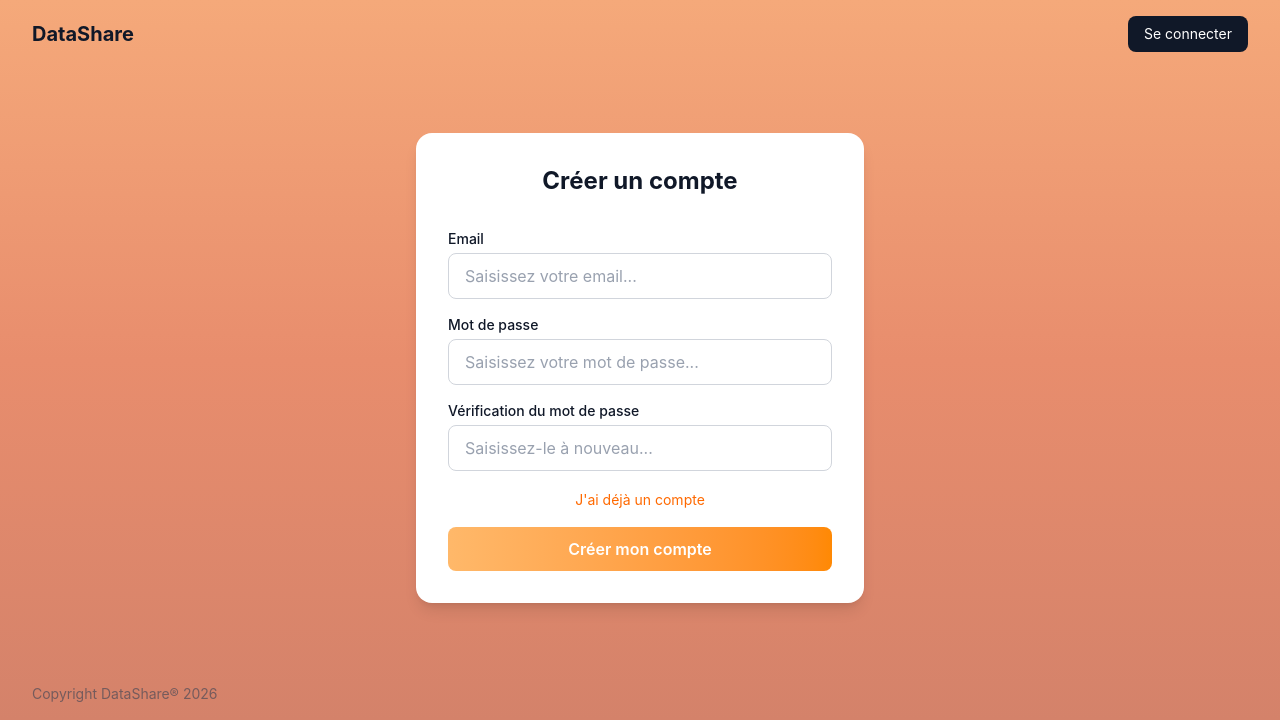
Test: Register Component (Integration) › affiche des erreurs Zod si les mots de passe ne correspondent pas
Type "test@test.com" into the field with placeholder "Saisissez votre email..." at (640, 276), box [448, 253, 832, 299]
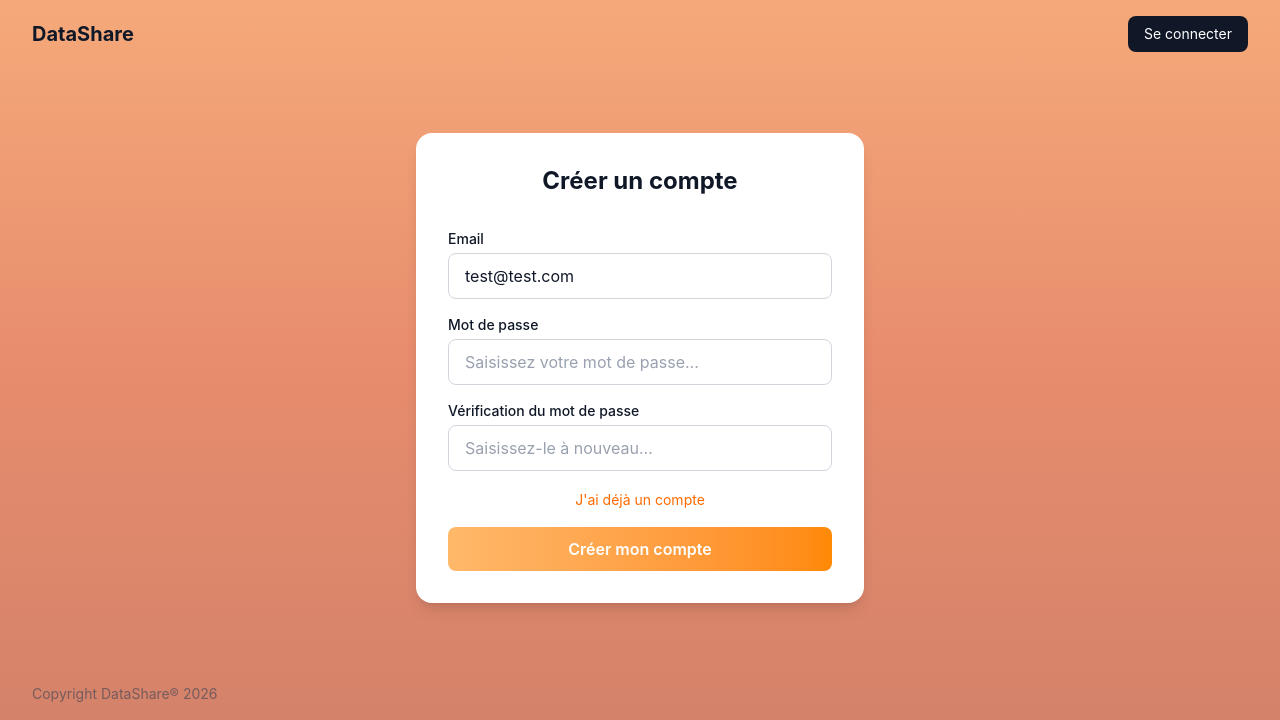
Type "password123" into the password field with placeholder "Saisissez votre mot de passe..." at (640, 362), box [448, 339, 832, 385]
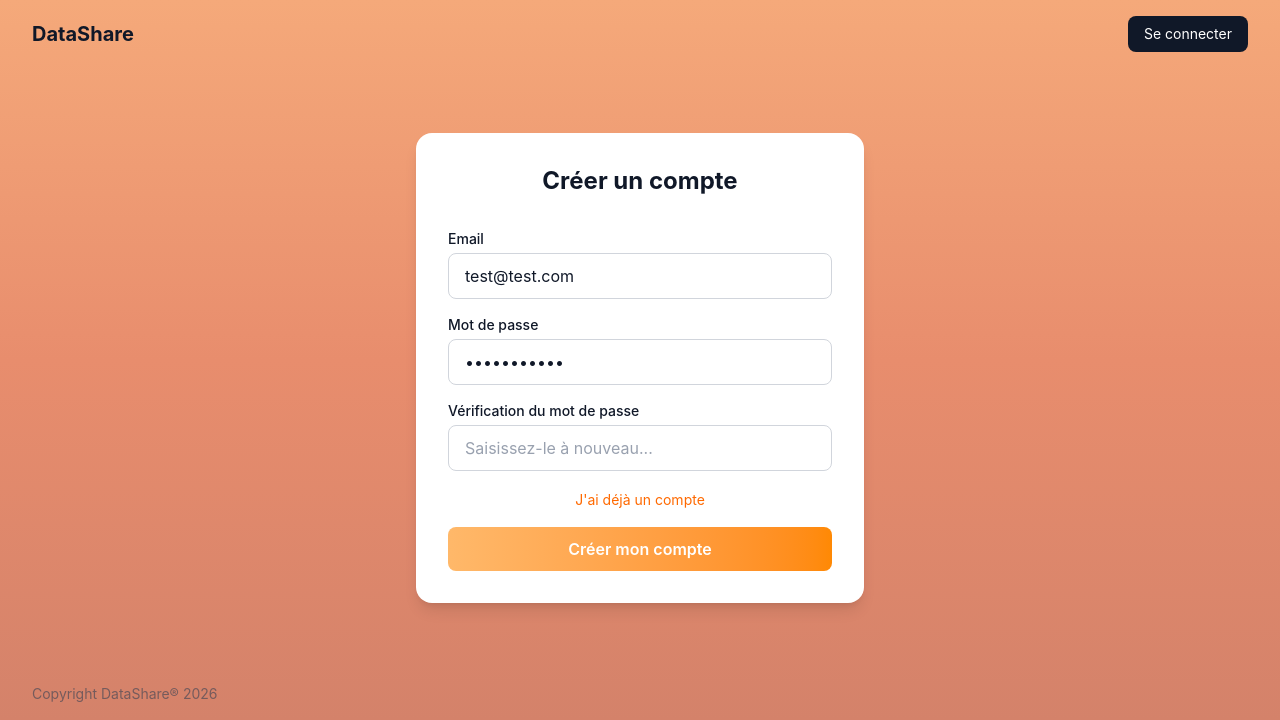
Type "diff-password" into the password field with placeholder "Saisissez-le à nouveau..." at (640, 448), box [448, 425, 832, 471]
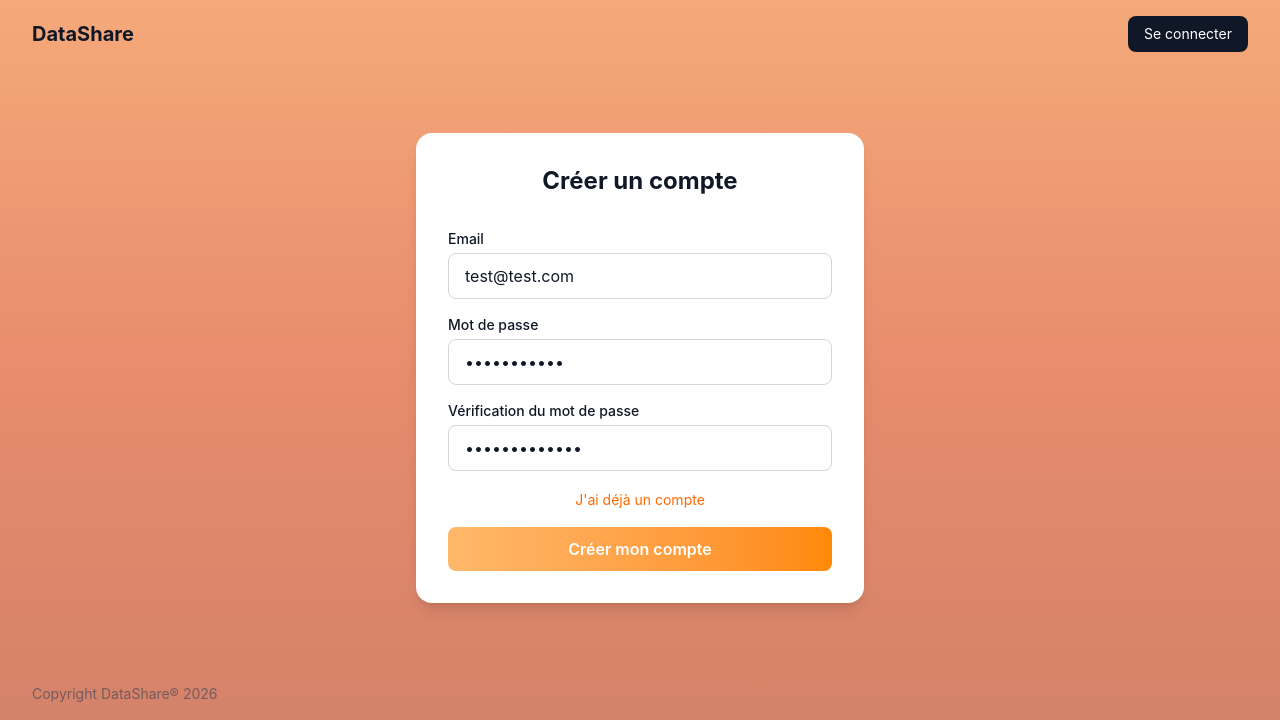
Click the button "Créer mon compte" at (640, 549), box [448, 527, 832, 571]
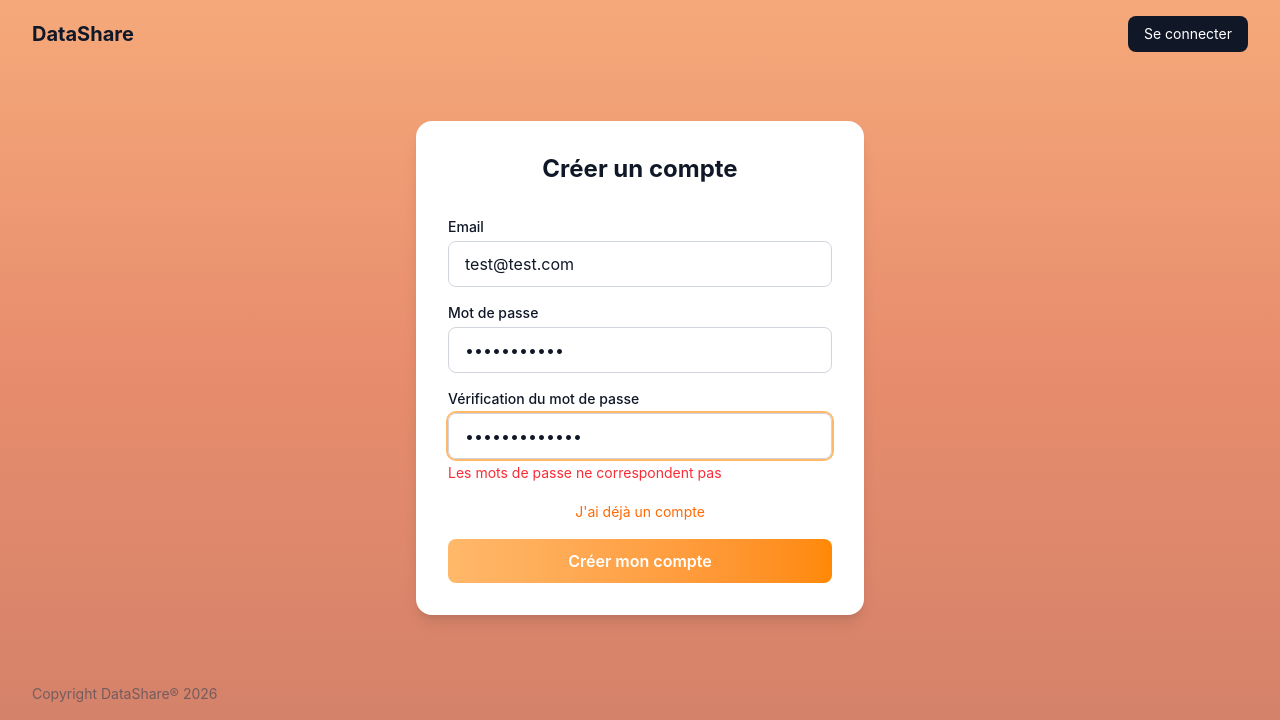
Check: the text "Les mots de passe ne correspondent pas" is shown, box [448, 464, 722, 481]
